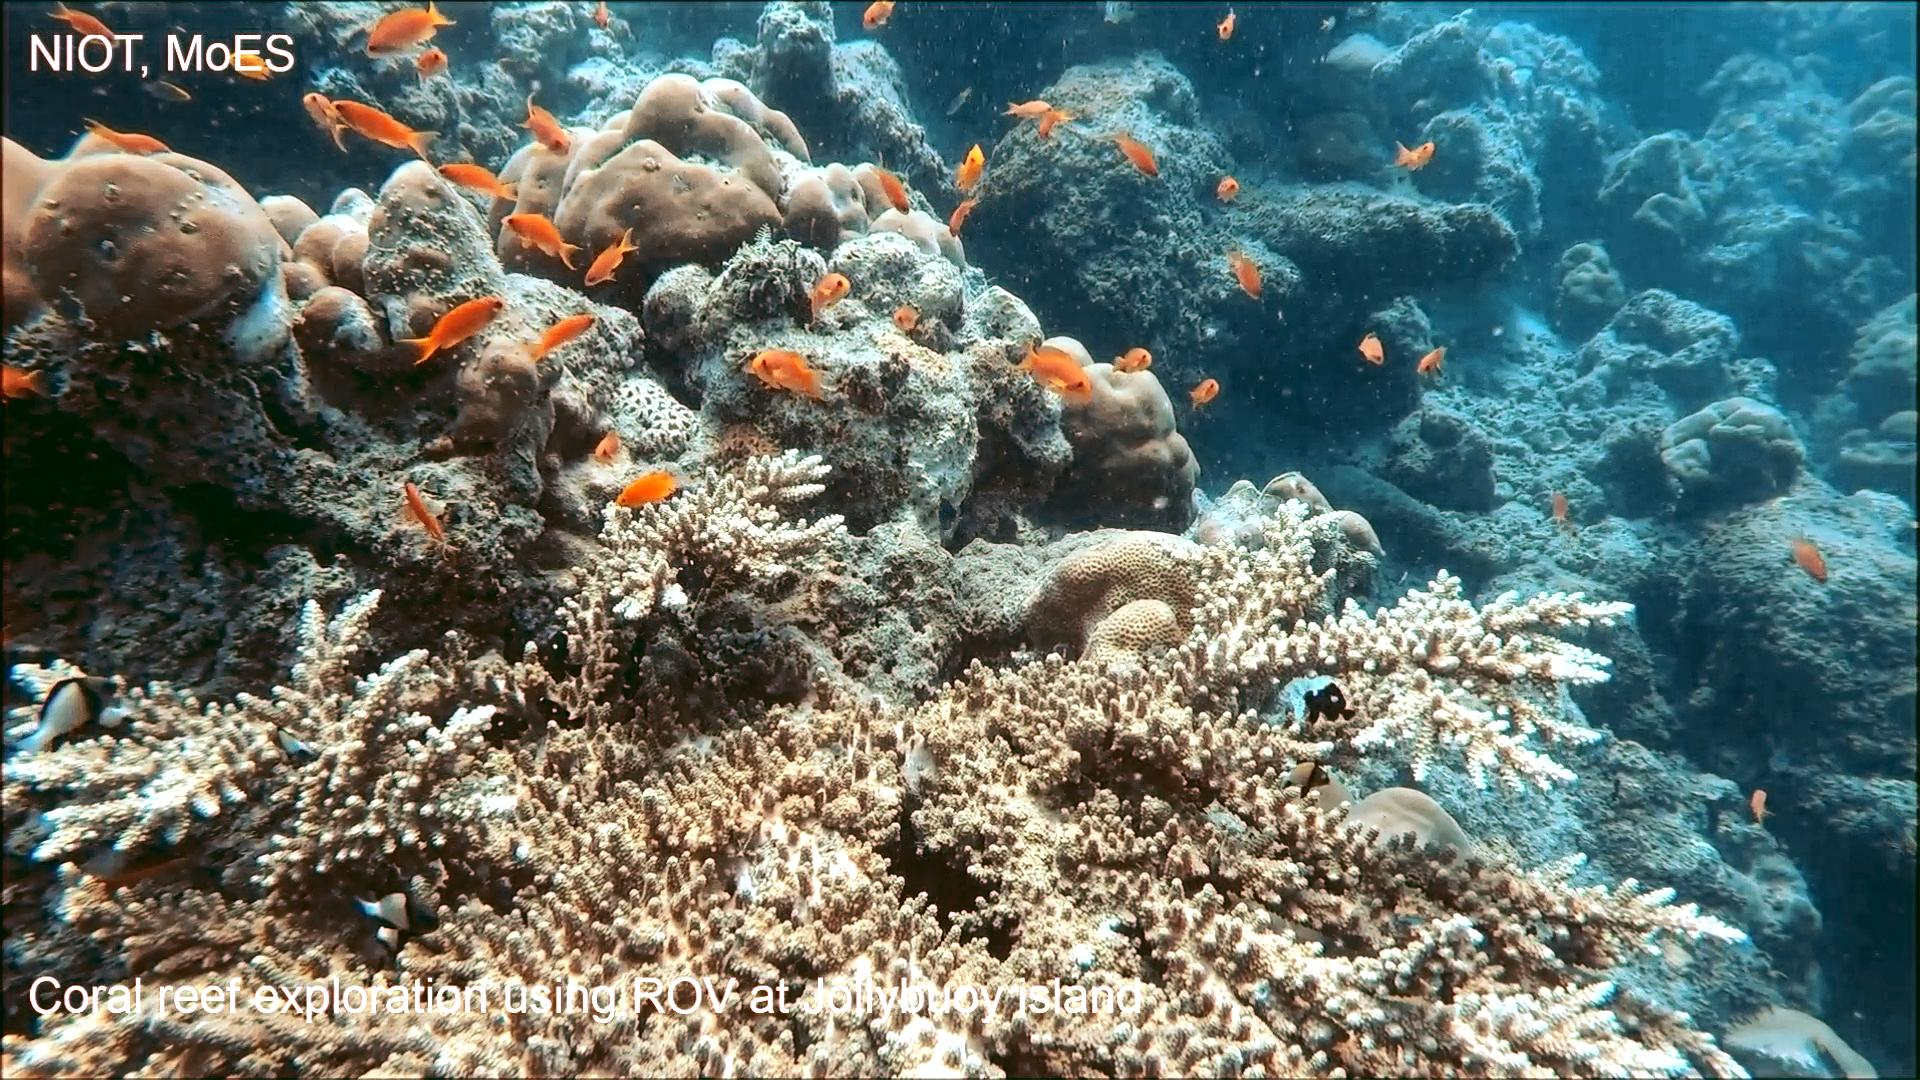Porites-Porites pukoensis: (477, 65, 847, 285), (0, 123, 286, 365)
